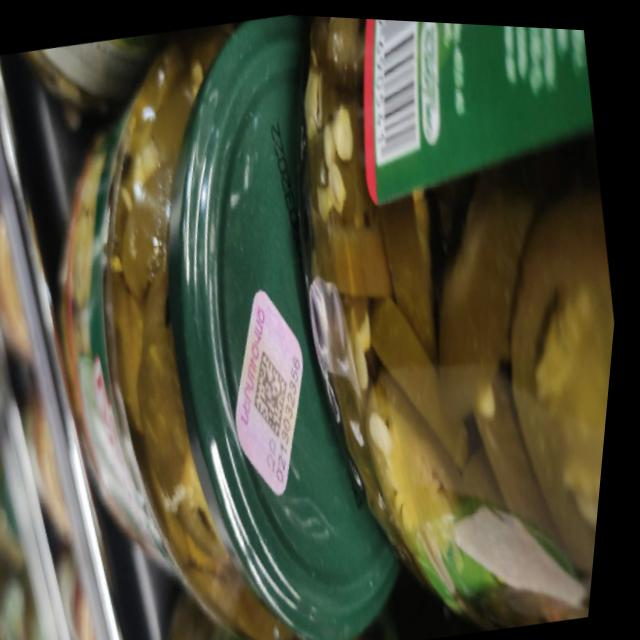datamatrix: (248, 340, 310, 441)
